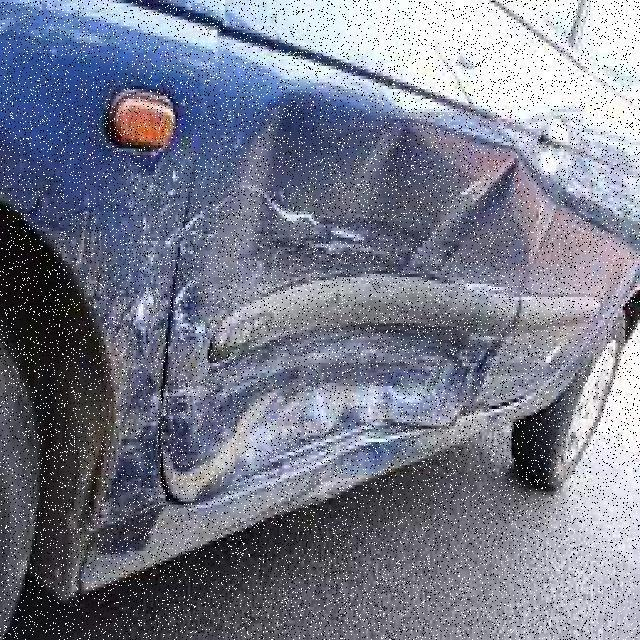doorouter-dent: (180, 29, 504, 476)
fender-dent: (0, 0, 171, 512)
